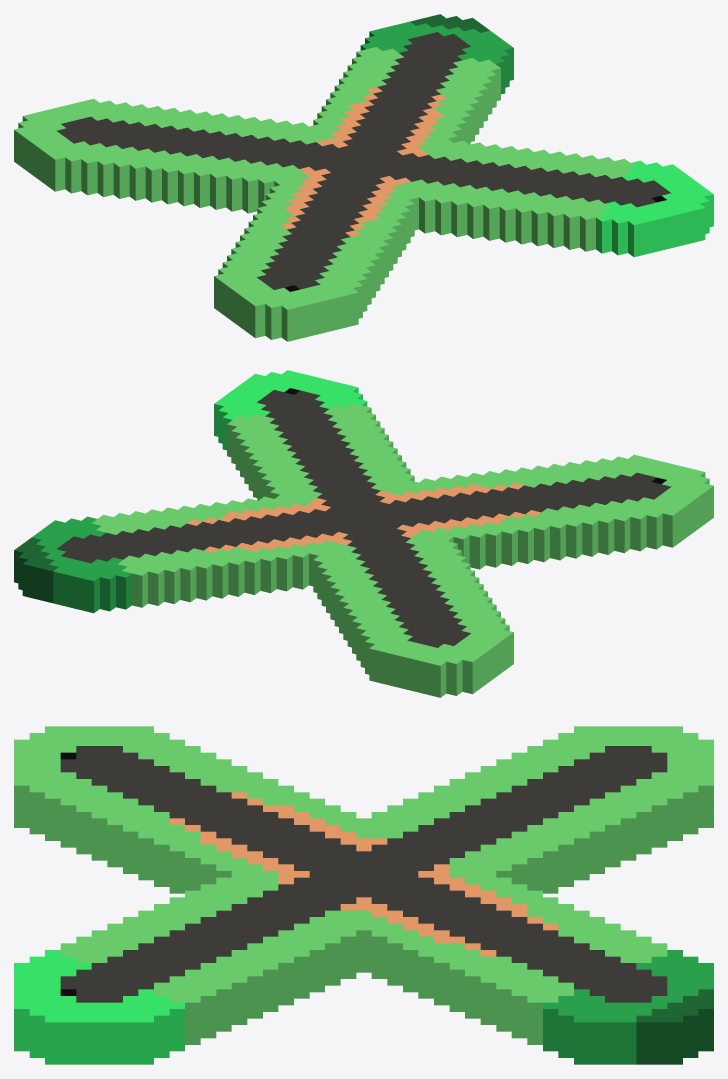
The model's file is reenAG.glb.
3 views of the same model, one above another, from view 1: azimuth 30°, elevation 25°; view 2: azimuth 150°, elevation 25°; view 3: azimuth 270°, elevation 25° (orthographic). The views are drawn at different scales.
Visible parts, largest first — view 1: Main; view 2: Main; view 3: Main.
Part boxes in pixels (left/top/right/bottom): Main: left=14, top=14, right=713, bottom=341; Main: left=14, top=370, right=713, bottom=697; Main: left=14, top=726, right=713, bottom=1064.
Size of the model in its own units: 45 by 3 by 45.
